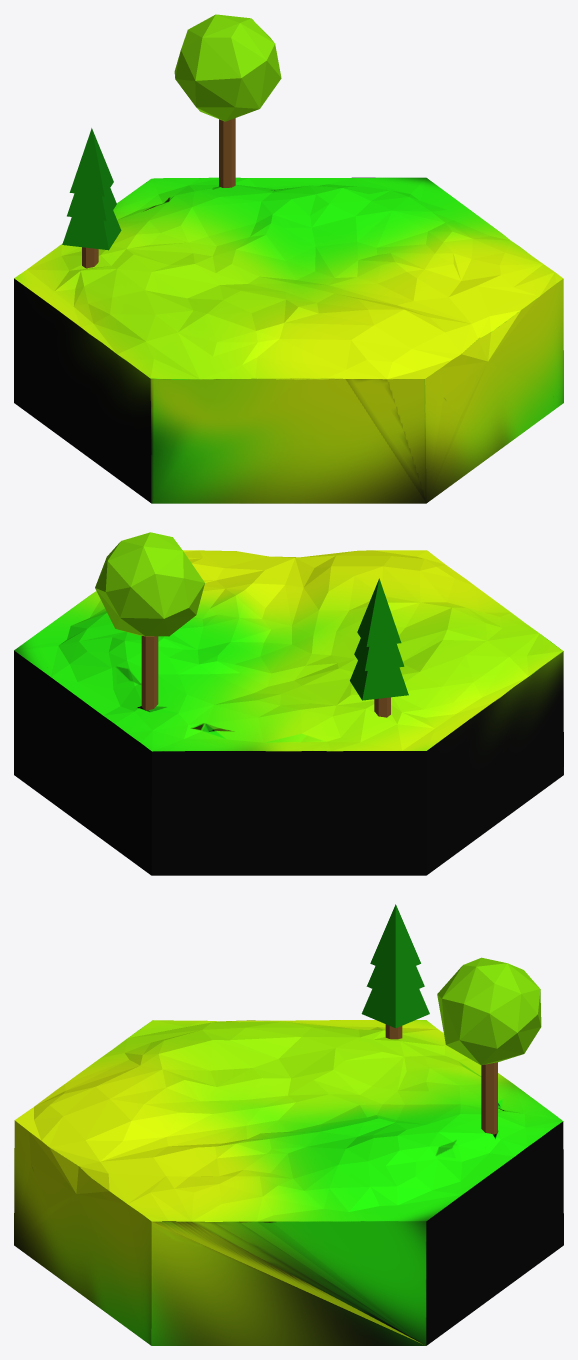
File: field.fbx
3 renders of one model, top to bottom at view 1: azimuth 30°, elevation 25°; view 2: azimuth 150°, elevation 25°; view 3: azimuth 270°, elevation 25°, orthographic.
Parts seen in each view (by area): view 1: Cylinder, Sphere, Cone.002, Cone, Cylinder.001, Cone.001; view 2: Cylinder, Sphere, Cone.002, Cone, Cylinder.001, Cone.001; view 3: Cylinder, Sphere, Cone.002, Cone, Cone.001, Cylinder.001.
Boxes of the visible parts, x1,y1,x2,y2 form: Cylinder: (14, 177, 563, 503); Sphere: (174, 14, 281, 121); Cone.002: (69, 128, 113, 196); Cone: (62, 210, 121, 250); Cylinder.001: (219, 118, 235, 187); Cone.001: (67, 188, 116, 220); Cylinder: (14, 550, 563, 875); Sphere: (95, 532, 204, 636); Cone.002: (357, 578, 401, 646); Cone: (350, 661, 408, 700); Cylinder.001: (141, 636, 158, 710); Cone.001: (354, 638, 404, 670); Cylinder: (14, 1020, 563, 1345); Sphere: (437, 957, 541, 1065); Cone.002: (370, 904, 420, 974); Cone: (361, 989, 429, 1028); Cone.001: (366, 966, 424, 998); Cylinder.001: (481, 1062, 497, 1134).
Size of the model in its own units: 109 by 75.57 by 125.
